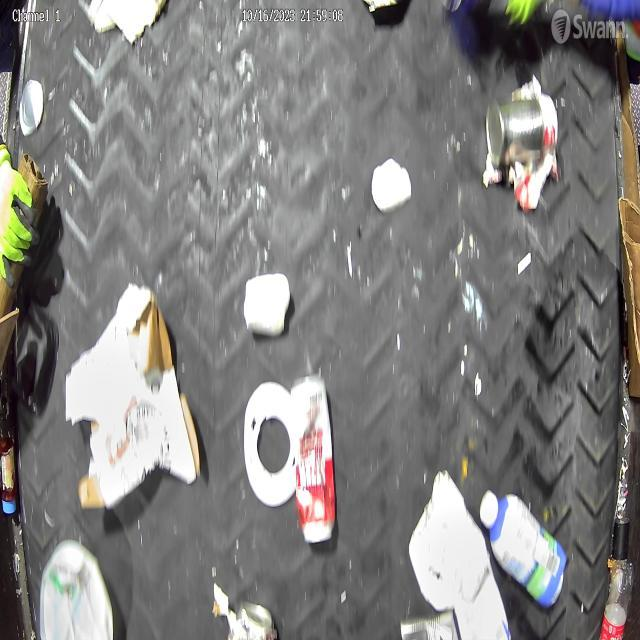can: (291, 370, 339, 548), (484, 93, 545, 167), (230, 595, 280, 640), (398, 607, 460, 640)
milk_jug: (36, 538, 116, 640)
plastic_bottle: (599, 554, 635, 640)
